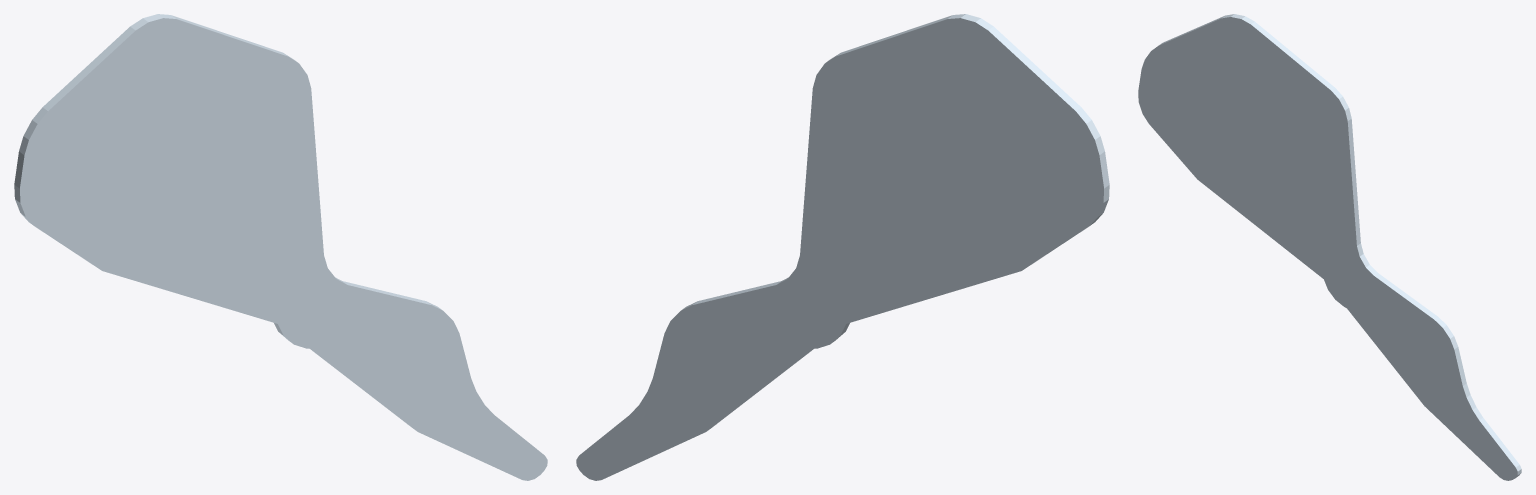
The model's file is Staff_3D_Icon.fbx.
3 renders of one model, left to right at view 1: azimuth 30°, elevation 25°; view 2: azimuth 150°, elevation 25°; view 3: azimuth 330°, elevation 25°, orthographic. The views are drawn at different scales.
Parts seen in each view (by area): view 1: Staff_3D_Icon_01; view 2: Staff_3D_Icon_01; view 3: Staff_3D_Icon_01.
Part boxes in pixels (left/top/right/bottom): Staff_3D_Icon_01: left=14, top=14, right=547, bottom=480; Staff_3D_Icon_01: left=576, top=14, right=1109, bottom=480; Staff_3D_Icon_01: left=1138, top=14, right=1521, bottom=480.
Bounding box in the file's own units: 110 × 110 × 2.
